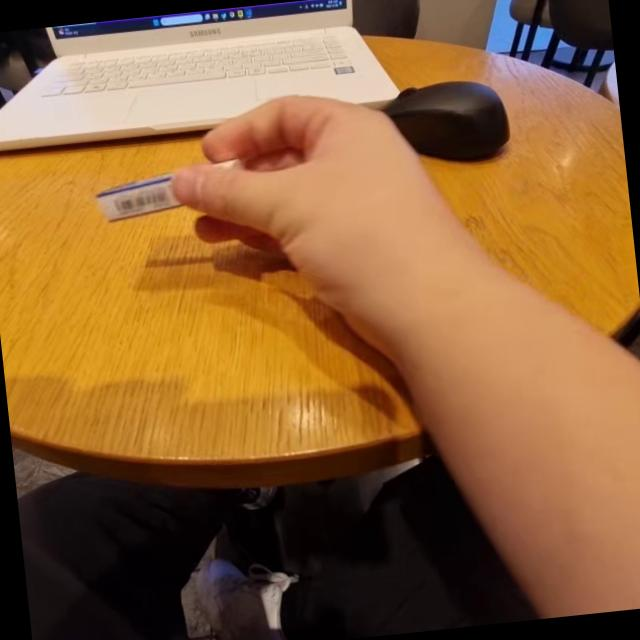eraser: (84, 164, 268, 244)
grab_eraser: (86, 92, 436, 368)
hand: (190, 80, 423, 346)
mouse: (377, 63, 527, 176)
